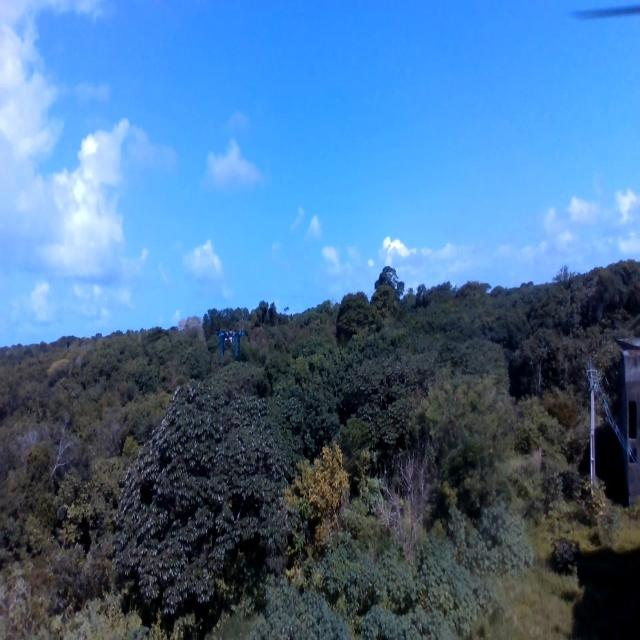-uav-: (203, 317, 255, 375)
